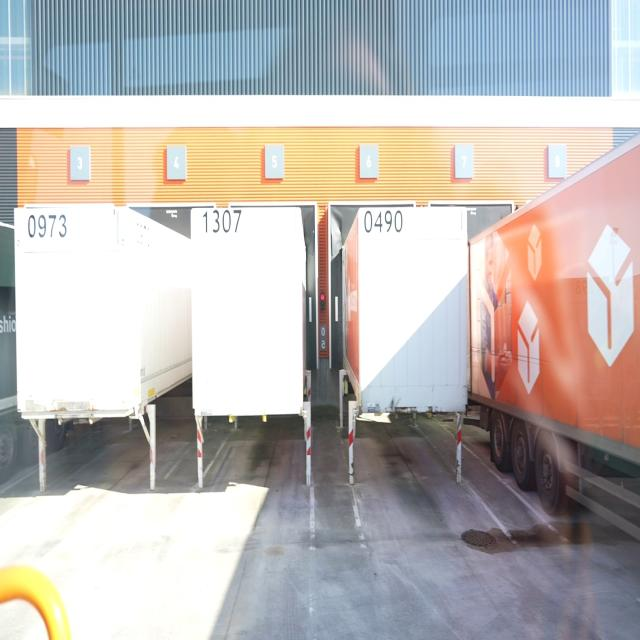Code: (24, 208, 70, 244), (362, 204, 407, 238), (200, 207, 244, 236)
